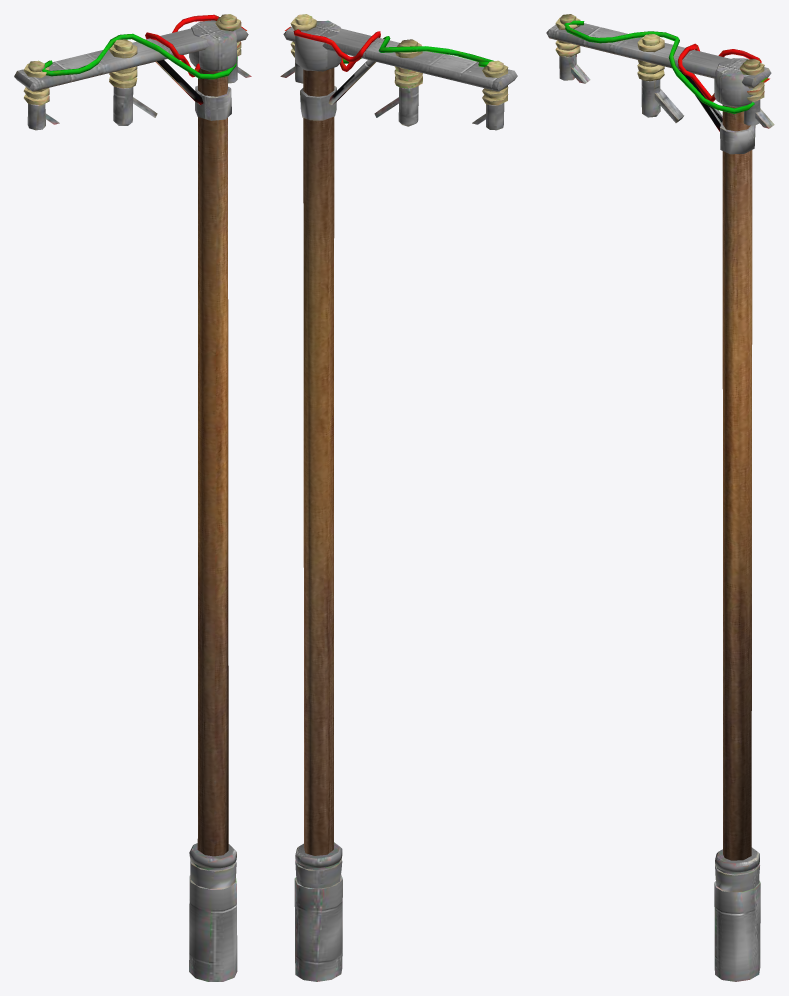
File: small-electric-pole.glb
3 views of the same model, side by side, from view 1: azimuth 30°, elevation 25°; view 2: azimuth 150°, elevation 25°; view 3: azimuth 330°, elevation 25° (orthographic). The views are drawn at different scales.
Parts seen in each view (by area): view 1: body; view 2: body; view 3: body.
Boxes of the visible parts, box(x1,y1,x2,y2) form: body: box(14, 14, 251, 981); body: box(280, 14, 517, 981); body: box(546, 14, 774, 981).
Bounding box in the file's own units: 0.9962 × 3.99 × 0.2083.
Materials: 1 (1 with a texture image).
